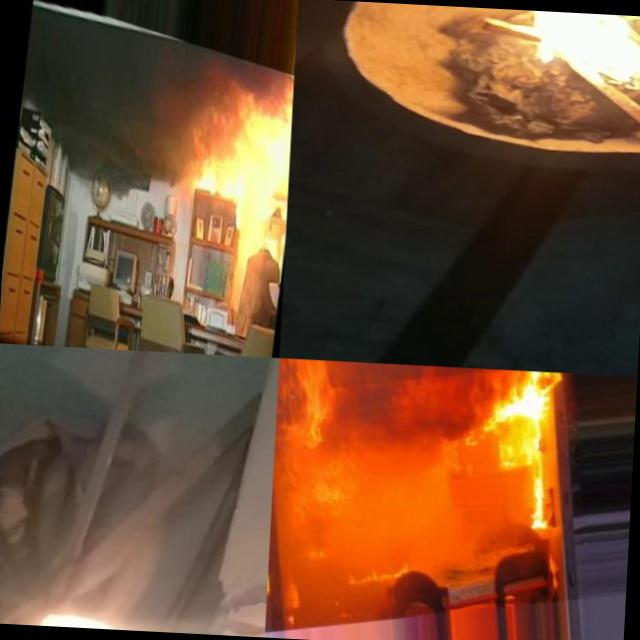fire: (189, 71, 294, 242), (486, 372, 554, 539), (519, 10, 640, 79), (0, 591, 176, 632)
smoke: (323, 366, 494, 480), (223, 238, 272, 335)
